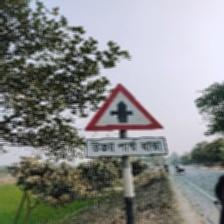Crossroad: (83, 84, 168, 159)
